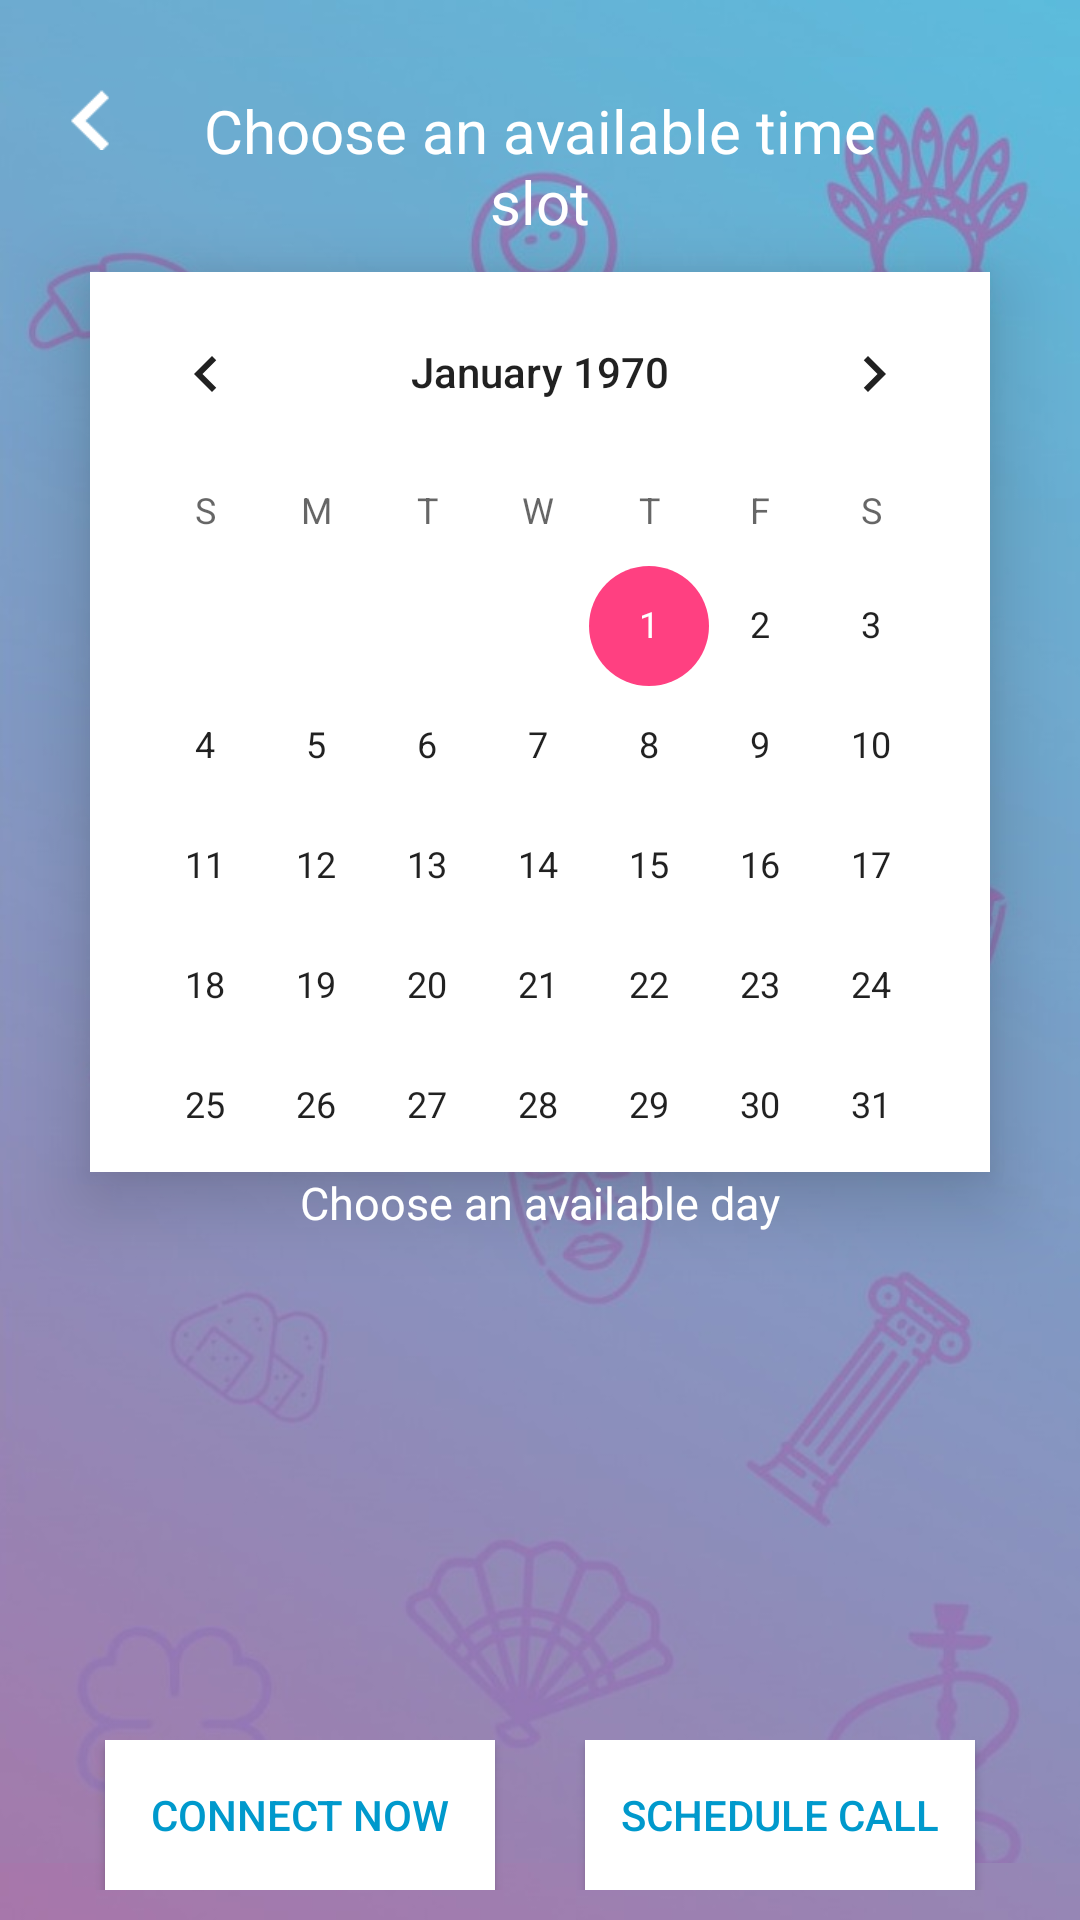

Icon bounding boxes for this 1080w x 1920h phone screenshot, format detection(x1, y1, x2, y2):
back: detection(71, 90, 109, 150)
